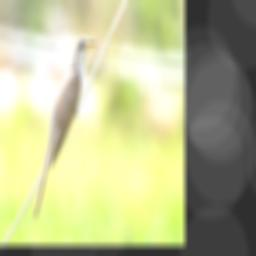Cuckoo: (32, 36, 97, 224)
